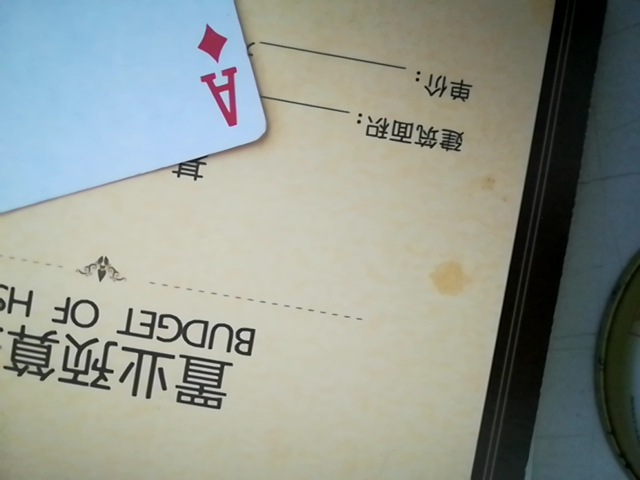fk a: (0, 0, 265, 245)
